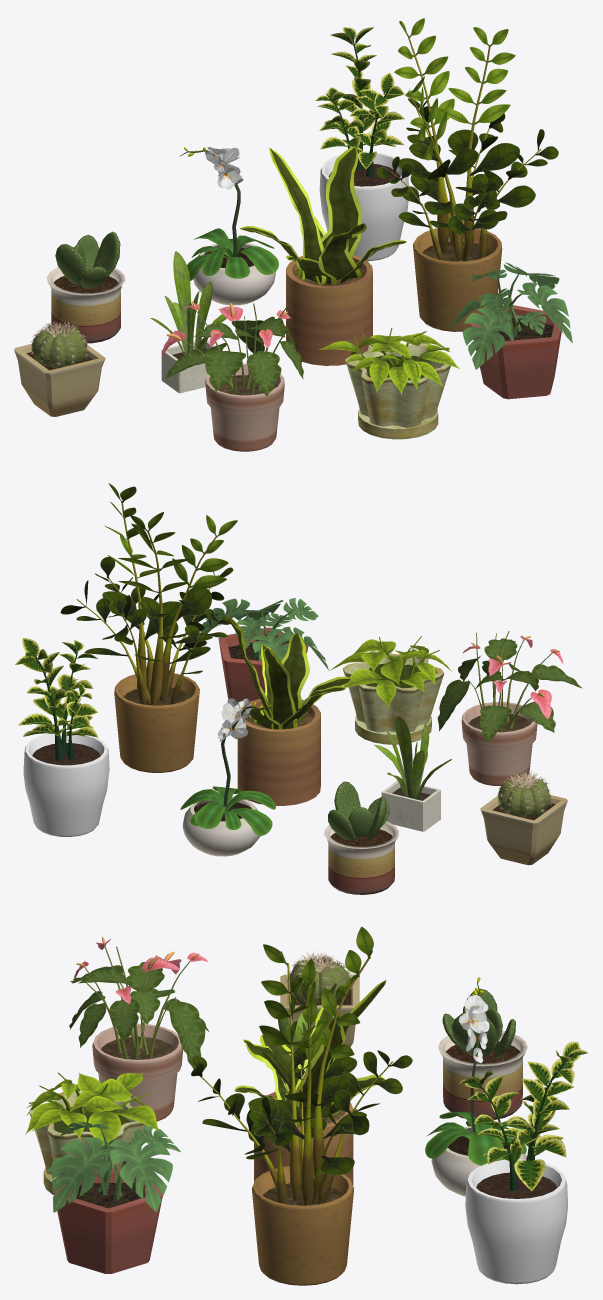
Rendered from pack2.glb.
3 renders of one model, top to bottom at view 1: azimuth 30°, elevation 25°; view 2: azimuth 150°, elevation 25°; view 3: azimuth 270°, elevation 25°, orthographic. The views are drawn at different scales.
Parts seen in each view (by area): view 1: pot0, pot1, pot9, pot8, pot6, pot3, pot7, pot5, pot10, pot2; view 2: pot0, pot6, pot1, pot9, pot3, pot7, pot5, pot10, pot8, pot2; view 3: pot0, pot6, pot8, pot9, pot3, pot7, pot1, pot5, pot10, pot2.
Part boxes in pixels (x1,y1,x2,y2): pot0: (376, 18, 558, 331); pot1: (239, 146, 406, 365); pot9: (161, 301, 303, 451); pot8: (448, 262, 572, 399); pot6: (315, 27, 408, 261); pot3: (319, 328, 460, 439); pot7: (47, 231, 125, 343); pot5: (179, 147, 278, 305); pot10: (14, 320, 105, 416); pot2: (150, 251, 226, 393); pot0: (60, 483, 237, 772); pot6: (15, 638, 109, 836); pot1: (227, 615, 351, 805); pot9: (437, 631, 582, 786); pot3: (329, 636, 451, 744); pot7: (324, 781, 398, 894); pot5: (180, 698, 276, 856); pot10: (480, 770, 567, 865); pot8: (200, 598, 328, 702); pot2: (374, 716, 451, 831); pot0: (191, 926, 412, 1285); pot6: (459, 1041, 588, 1284); pot8: (46, 1122, 180, 1273); pot9: (69, 937, 209, 1121); pot3: (25, 1072, 158, 1194); pot7: (438, 988, 527, 1119); pot1: (234, 980, 386, 1185); pot5: (423, 977, 539, 1196); pot10: (280, 951, 359, 1052); pot2: (278, 983, 336, 1068).
Size of the model in its own units: 5.1 by 2.78 by 4.41.
Materials: 20 (20 with a texture image).
